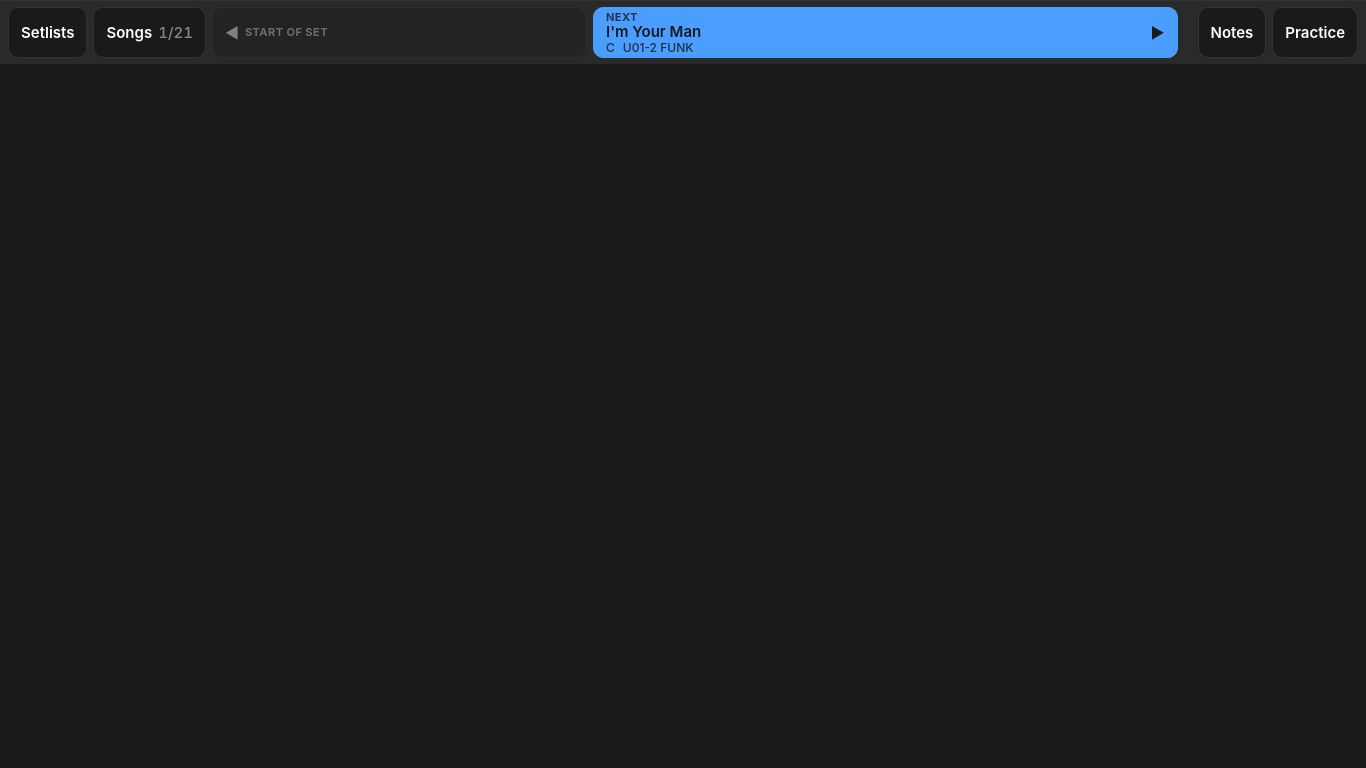
the Notes sheet, on Stage › shows your own notes over the built-in ones
Click the button "Notes" at [1232, 32], box [1198,7,1266,58]
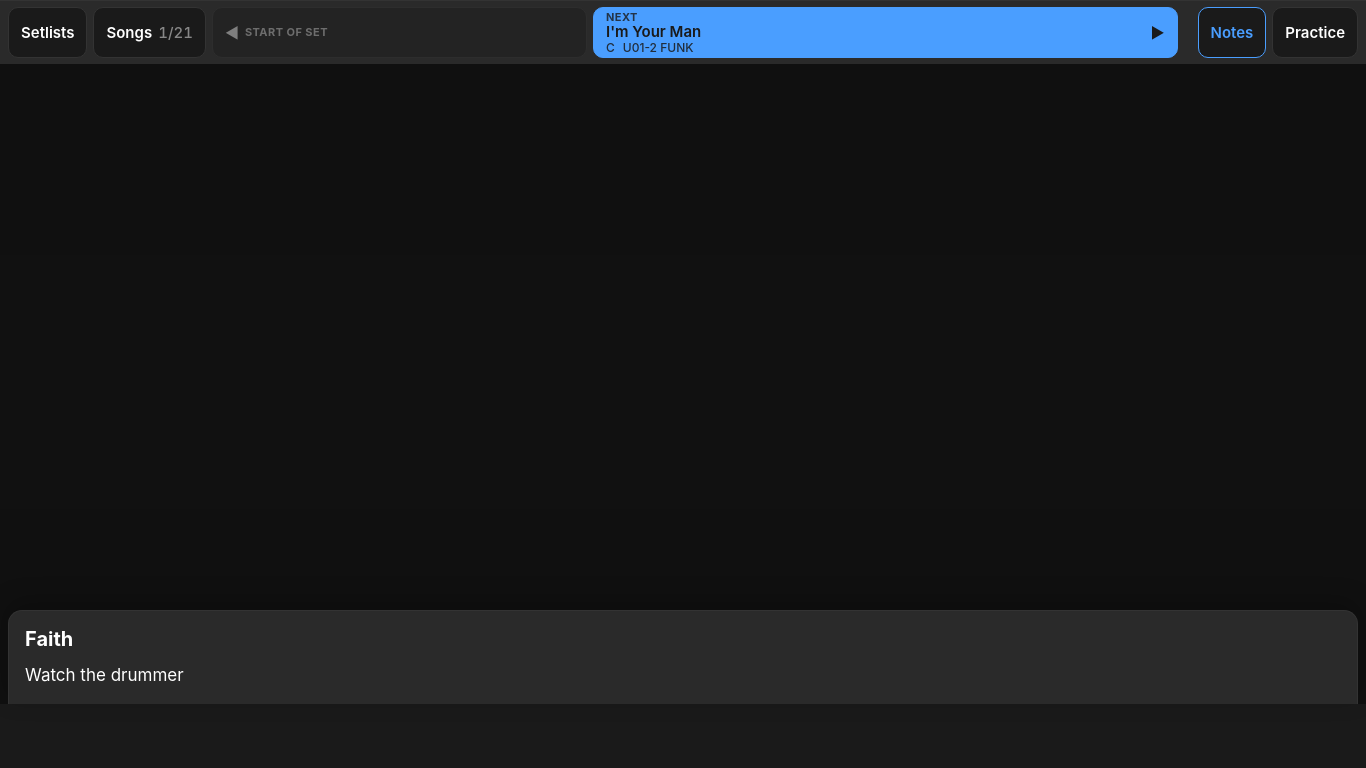
Expected: the text "Watch the drummer" is shown, [25,664,184,684]
